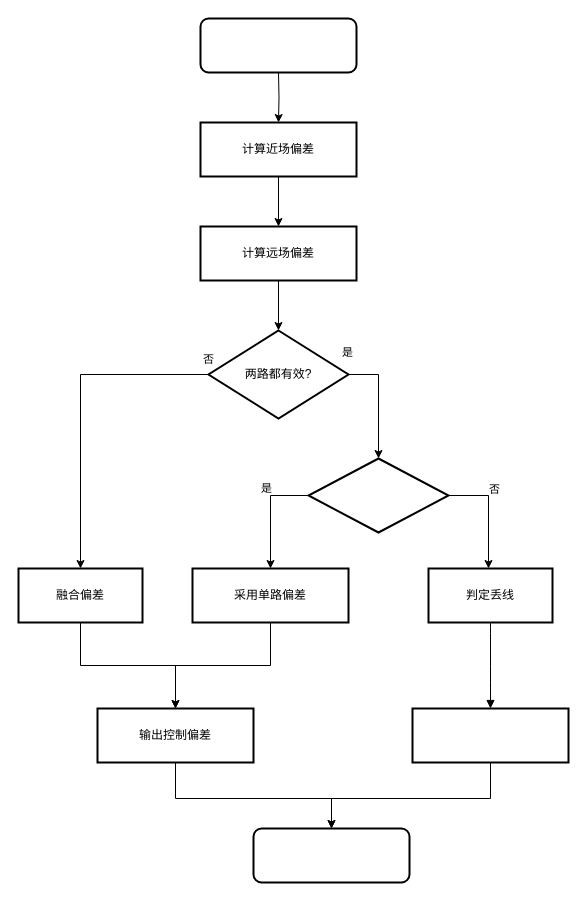
The diagram is 586 pixels wide and 900 high, and some of its shapes have lost their labels. Each missing label, with the centre of its shape:
仅一路有效?: (378,495)
开始: (278,45)
结束: (331,855)
进入恢复流程: (490,735)
